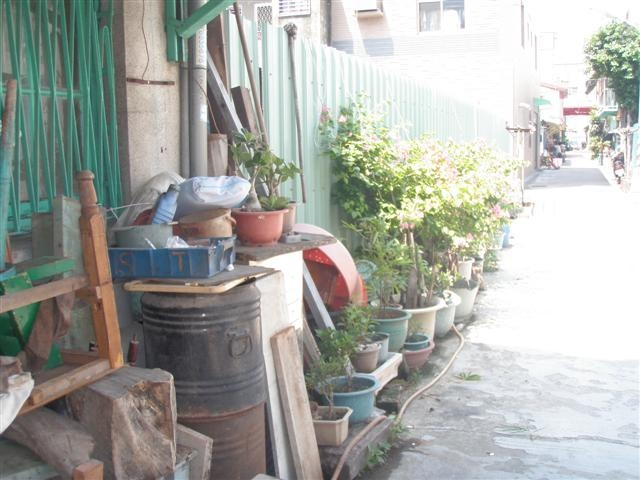box: (108, 239, 235, 279)
bucket: (140, 283, 266, 417), (111, 218, 180, 246), (177, 207, 232, 237)
plastic_bag: (181, 175, 250, 209)
